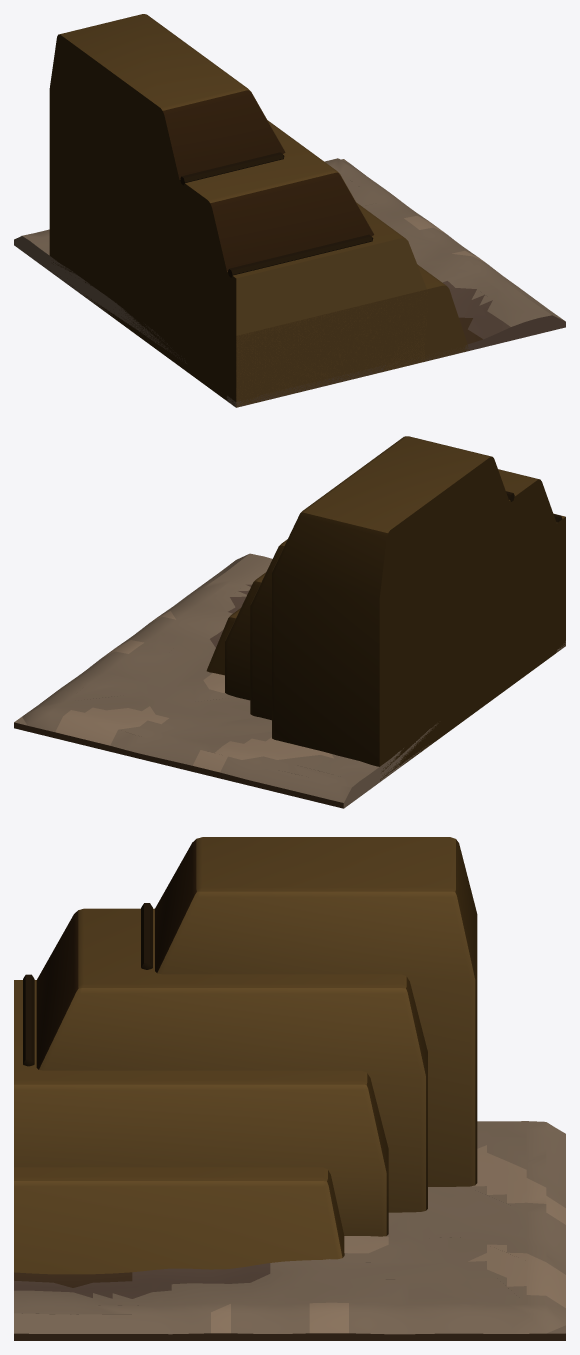
3 views of the same model, one above another, from view 1: azimuth 30°, elevation 25°; view 2: azimuth 150°, elevation 25°; view 3: azimuth 270°, elevation 25° (orthographic). The views are drawn at different scales.
Parts seen in each view (by area): view 1: pyramid_155_tier2, pyramid_155_tier3, pyramid_155_tier0, pyramid_155_tier1, pyramid_155_sand, pyramid_155_course1, pyramid_155_course2; view 2: pyramid_155_tier3, pyramid_155_sand, pyramid_155_tier2, pyramid_155_tier1, pyramid_155_tier0; view 3: pyramid_155_sand, pyramid_155_tier3, pyramid_155_tier2, pyramid_155_tier1, pyramid_155_tier0, pyramid_155_course1, pyramid_155_course2.
Part boxes in pixels (bbox=[...]): pyramid_155_tier2: bbox=[69, 107, 374, 399]; pyramid_155_tier3: bbox=[49, 14, 285, 297]; pyramid_155_tier0: bbox=[105, 245, 469, 407]; pyramid_155_tier1: bbox=[85, 176, 427, 407]; pyramid_155_sand: bbox=[14, 158, 565, 407]; pyramid_155_course1: bbox=[228, 234, 373, 277]; pyramid_155_course2: bbox=[180, 152, 284, 185]; pyramid_155_tier3: bbox=[272, 436, 510, 780]; pyramid_155_sand: bbox=[14, 553, 565, 808]; pyramid_155_tier2: bbox=[250, 469, 556, 765]; pyramid_155_tier1: bbox=[225, 513, 565, 700]; pyramid_155_tier0: bbox=[206, 574, 565, 707]; pyramid_155_sand: bbox=[14, 1121, 565, 1340]; pyramid_155_tier3: bbox=[155, 837, 477, 1186]; pyramid_155_tier2: bbox=[36, 908, 427, 1212]; pyramid_155_tier1: bbox=[14, 980, 388, 1236]; pyramid_155_tier0: bbox=[14, 1167, 344, 1274]; pyramid_155_course1: bbox=[23, 974, 34, 1066]; pyramid_155_course2: bbox=[141, 903, 152, 969].
Size of the model in its own units: 24 by 17 by 28.
